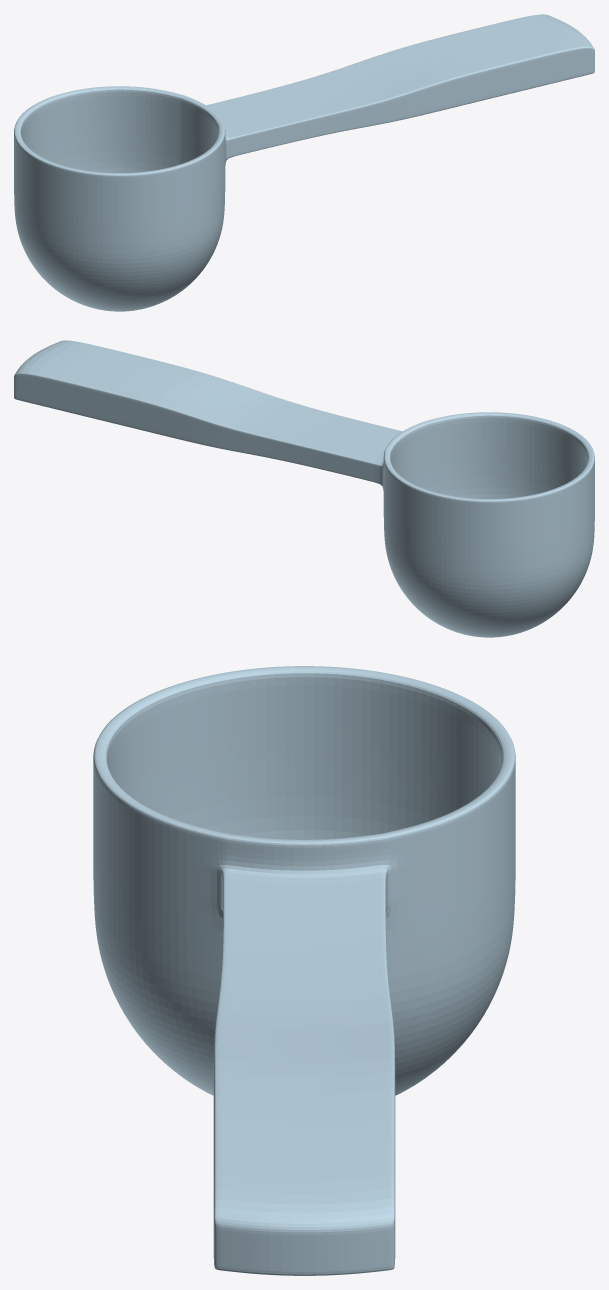
File: spoon_empty_combined.fbx
The picture shows the model from 3 angles, top to bottom: view 1: azimuth 30°, elevation 25°; view 2: azimuth 150°, elevation 25°; view 3: azimuth 270°, elevation 25°; orthographic projection. The views are drawn at different scales.
Visible parts, largest first — view 1: Sphere; view 2: Sphere; view 3: Sphere.
Part boxes in pixels (box(x1,y1,x2,y2)): Sphere: box(14, 14, 594, 311); Sphere: box(14, 340, 594, 637); Sphere: box(93, 666, 515, 1275).
Size of the model in its own units: 59.87 by 17.85 by 19.87.
